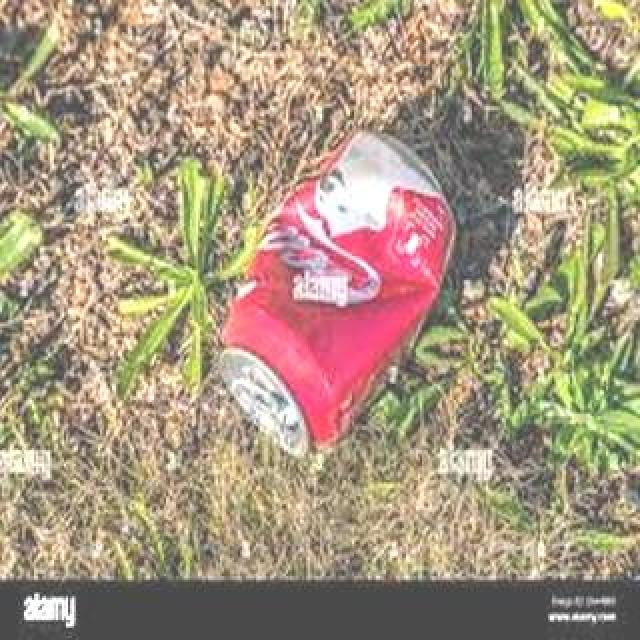Can: (210, 124, 458, 466)
